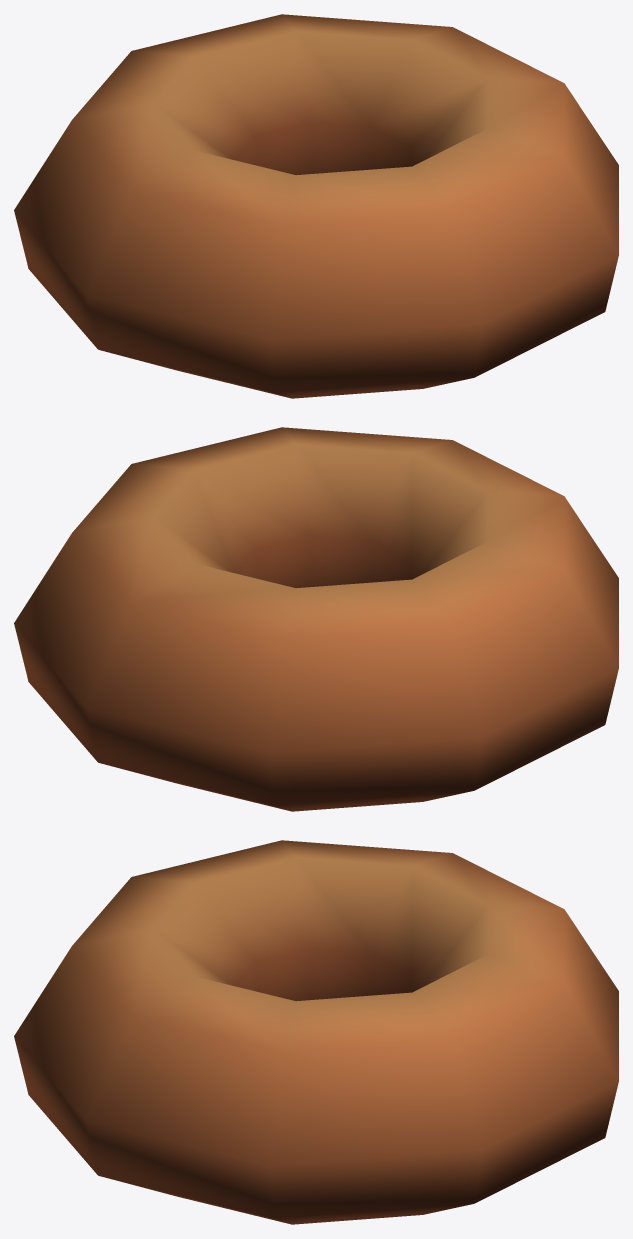
Rendered from consumables-sugar-donut_v2.glb.
3 views of the same model, one above another, from view 1: azimuth 30°, elevation 25°; view 2: azimuth 150°, elevation 25°; view 3: azimuth 270°, elevation 25° (orthographic).
Parts seen in each view (by area): view 1: Donut_v2; view 2: Donut_v2; view 3: Donut_v2.
Boxes of the visible parts, bbox=[...] form: Donut_v2: bbox=[14, 14, 618, 398]; Donut_v2: bbox=[14, 427, 618, 811]; Donut_v2: bbox=[14, 840, 618, 1224].
Size of the model in its own units: 0.1108 by 0.0427 by 0.1092.
